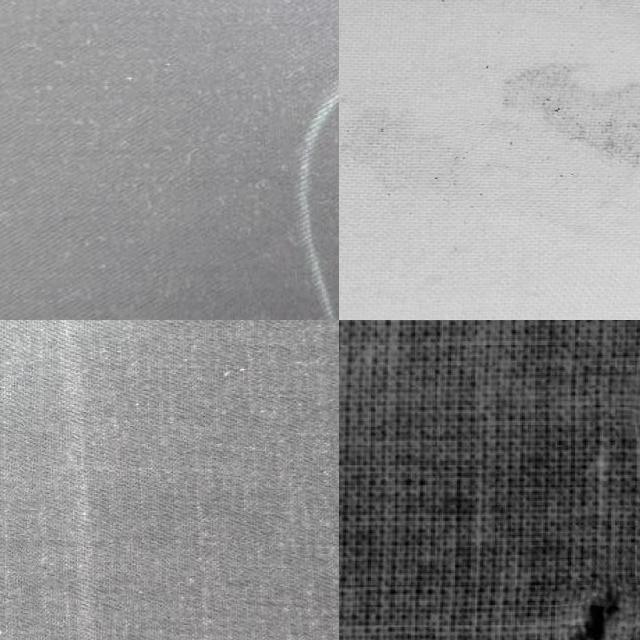Hole: (453, 13, 640, 175)
Thread_other: (0, 320, 44, 640)
seam: (559, 575, 637, 640), (626, 351, 640, 451)
